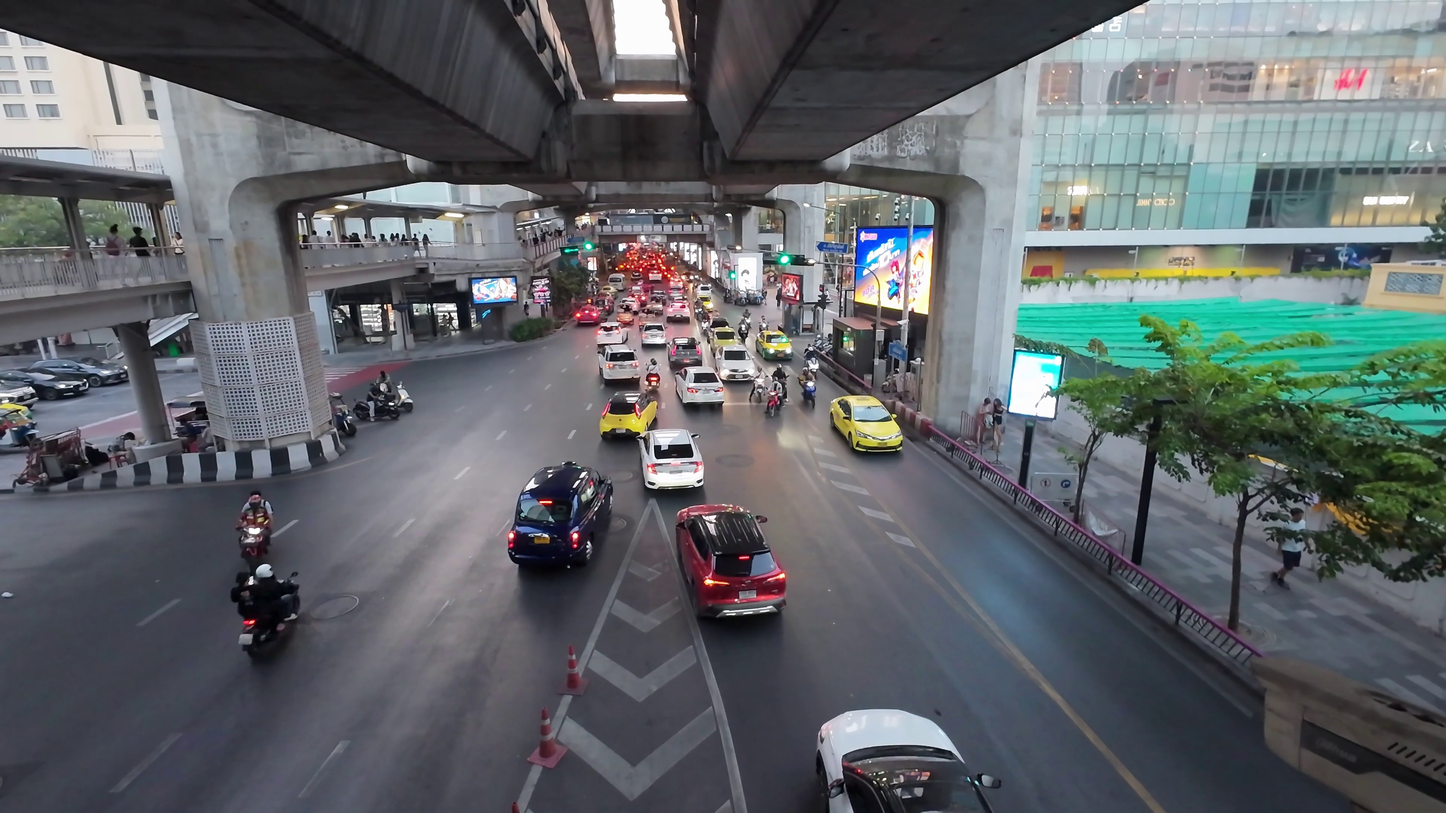license_plate: (860, 771, 952, 804), (702, 573, 760, 612), (533, 527, 585, 561), (248, 632, 284, 655), (848, 432, 885, 453), (655, 467, 688, 489), (35, 385, 73, 397), (369, 408, 399, 421), (689, 391, 712, 404)
motorcycle: (230, 566, 302, 660), (355, 373, 413, 424)
no_helmet: (233, 482, 278, 509)
no_seatbelt: (842, 724, 970, 776), (691, 519, 771, 579), (523, 478, 595, 532), (840, 403, 893, 435), (648, 438, 694, 470), (27, 368, 81, 387), (685, 371, 717, 393)
person: (236, 489, 274, 560)
